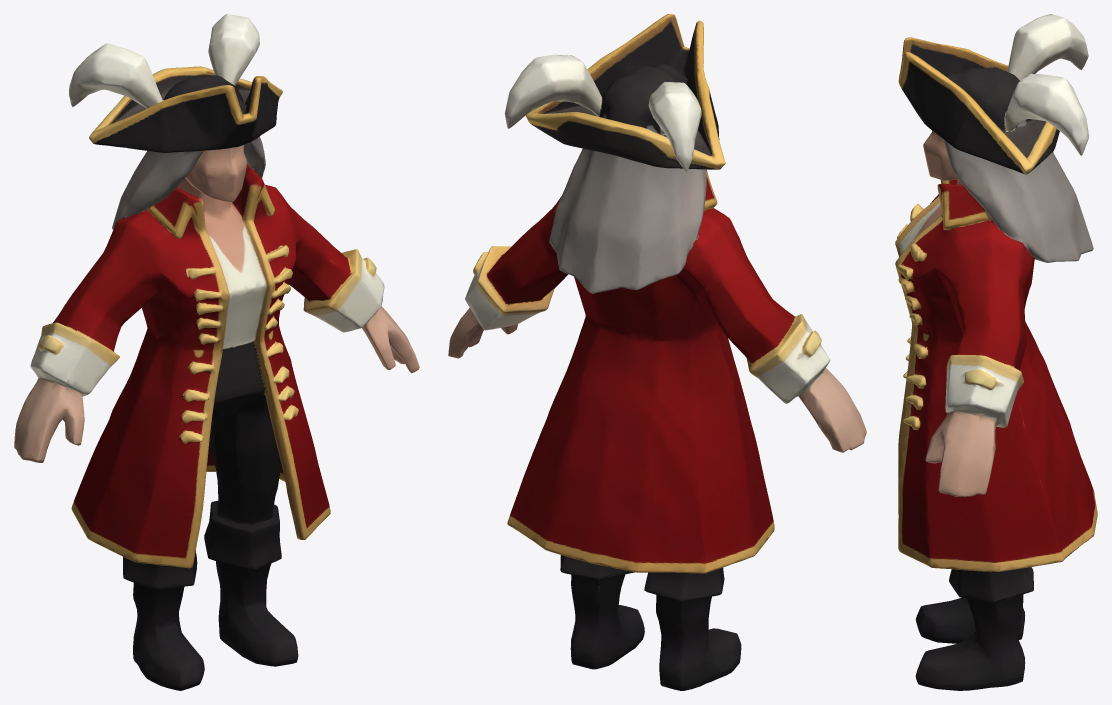
Rendered from capitan_fem.glb.
3 renders of one model, left to right at view 1: azimuth 30°, elevation 25°; view 2: azimuth 150°, elevation 25°; view 3: azimuth 270°, elevation 25°, orthographic. The views are drawn at different scales.
Visible parts, largest first — view 1: world; view 2: world; view 3: world.
Part boxes in pixels (<box>): world: <box>14,14,419,690</box>; world: <box>448,14,866,690</box>; world: <box>895,14,1097,690</box>.
Size of the model in its own units: 0.6878 by 0.9992 by 0.3004.
1 material, 1 textured.
